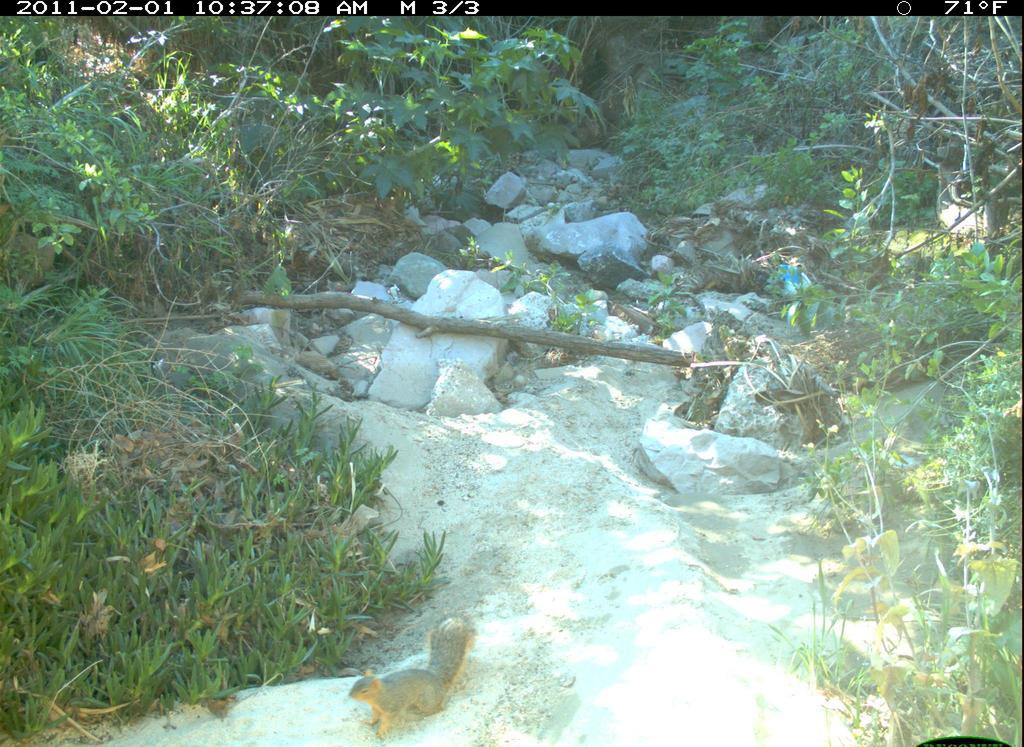squirrel: (337, 607, 479, 747)
